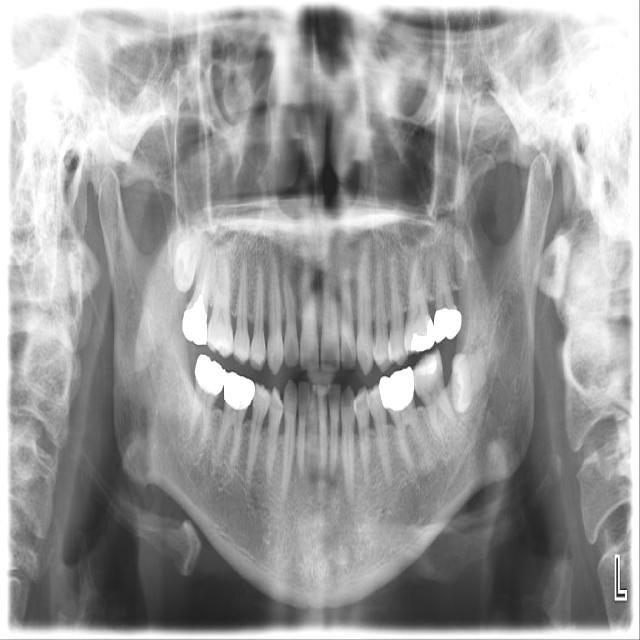Crown: (195, 353, 255, 411), (379, 366, 414, 412), (433, 307, 462, 342), (182, 309, 207, 345)
Filling: (405, 317, 435, 350), (415, 355, 438, 374)
Root Canal Treatment: (201, 251, 209, 290)
impacted tooth: (451, 345, 489, 411), (173, 225, 204, 291)
